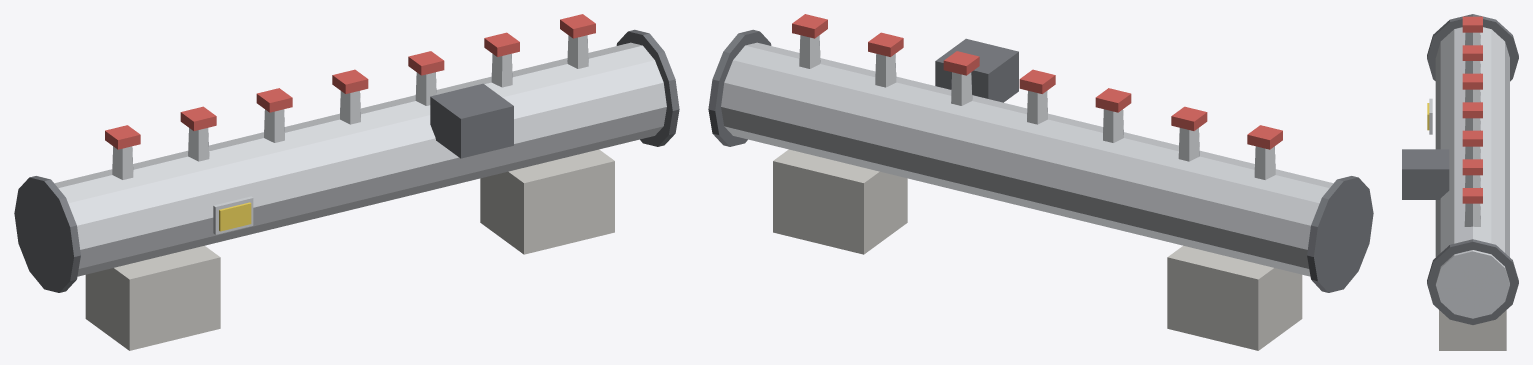
File: rocket-launch-pad-and-gantry-sound-suppression-pipe-ru-48d4ee6e__38165.glb
3 renders of one model, left to right at view 1: azimuth 30°, elevation 25°; view 2: azimuth 150°, elevation 25°; view 3: azimuth 270°, elevation 25°, orthographic. The views are drawn at different scales.
Parts seen in each view (by area): view 1: sound-suppression-pipe-run; view 2: sound-suppression-pipe-run; view 3: sound-suppression-pipe-run.
Boxes of the visible parts, x1,y1,x2,y2 form: sound-suppression-pipe-run: (14,14,679,350); sound-suppression-pipe-run: (708,14,1373,350); sound-suppression-pipe-run: (1402,14,1518,350).
Bounding box in the file's own units: 8.03 × 2.5 × 1.73.
